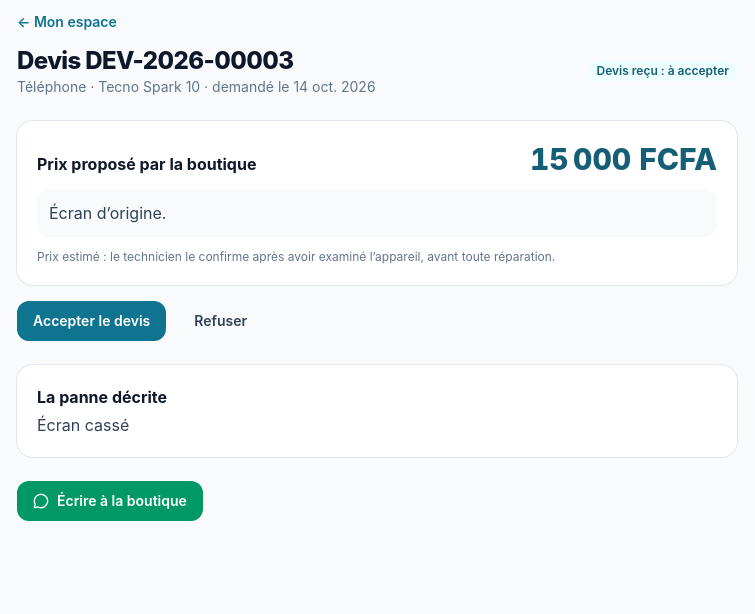
Scenario: Devis en ligne cote client › montre le prix propose et permet de l accepter
Check: the text "15 000 FCFA" is shown, box top-left (530, 141), bottom-right (717, 177)
Check: the text "Écran d’origine." is shown, box top-left (37, 189), bottom-right (717, 237)
Click the button "Accepter le devis".
click(92, 321)  # box top-left (17, 301), bottom-right (166, 341)
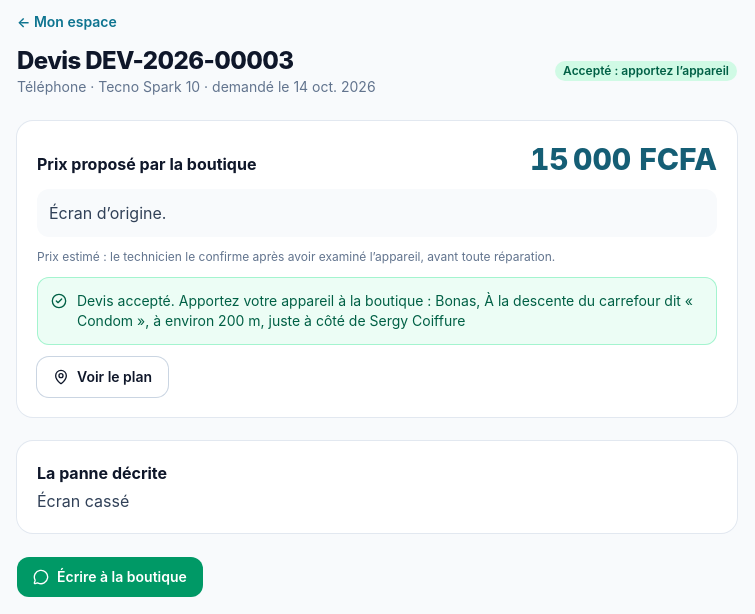
Check: the text "Devis accepté. Apportez votre appareil" is shown, box top-left (77, 292), bottom-right (435, 309)
